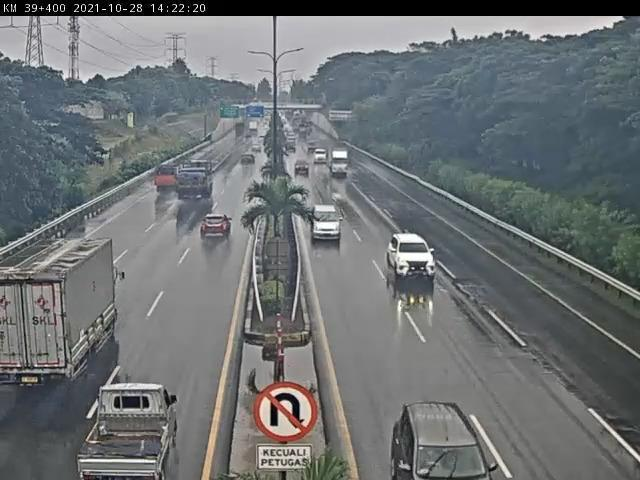car: (77, 382, 182, 480), (386, 230, 437, 282), (308, 202, 344, 245), (199, 214, 236, 245)
truck: (2, 234, 121, 389), (170, 164, 214, 206), (147, 168, 179, 199)
